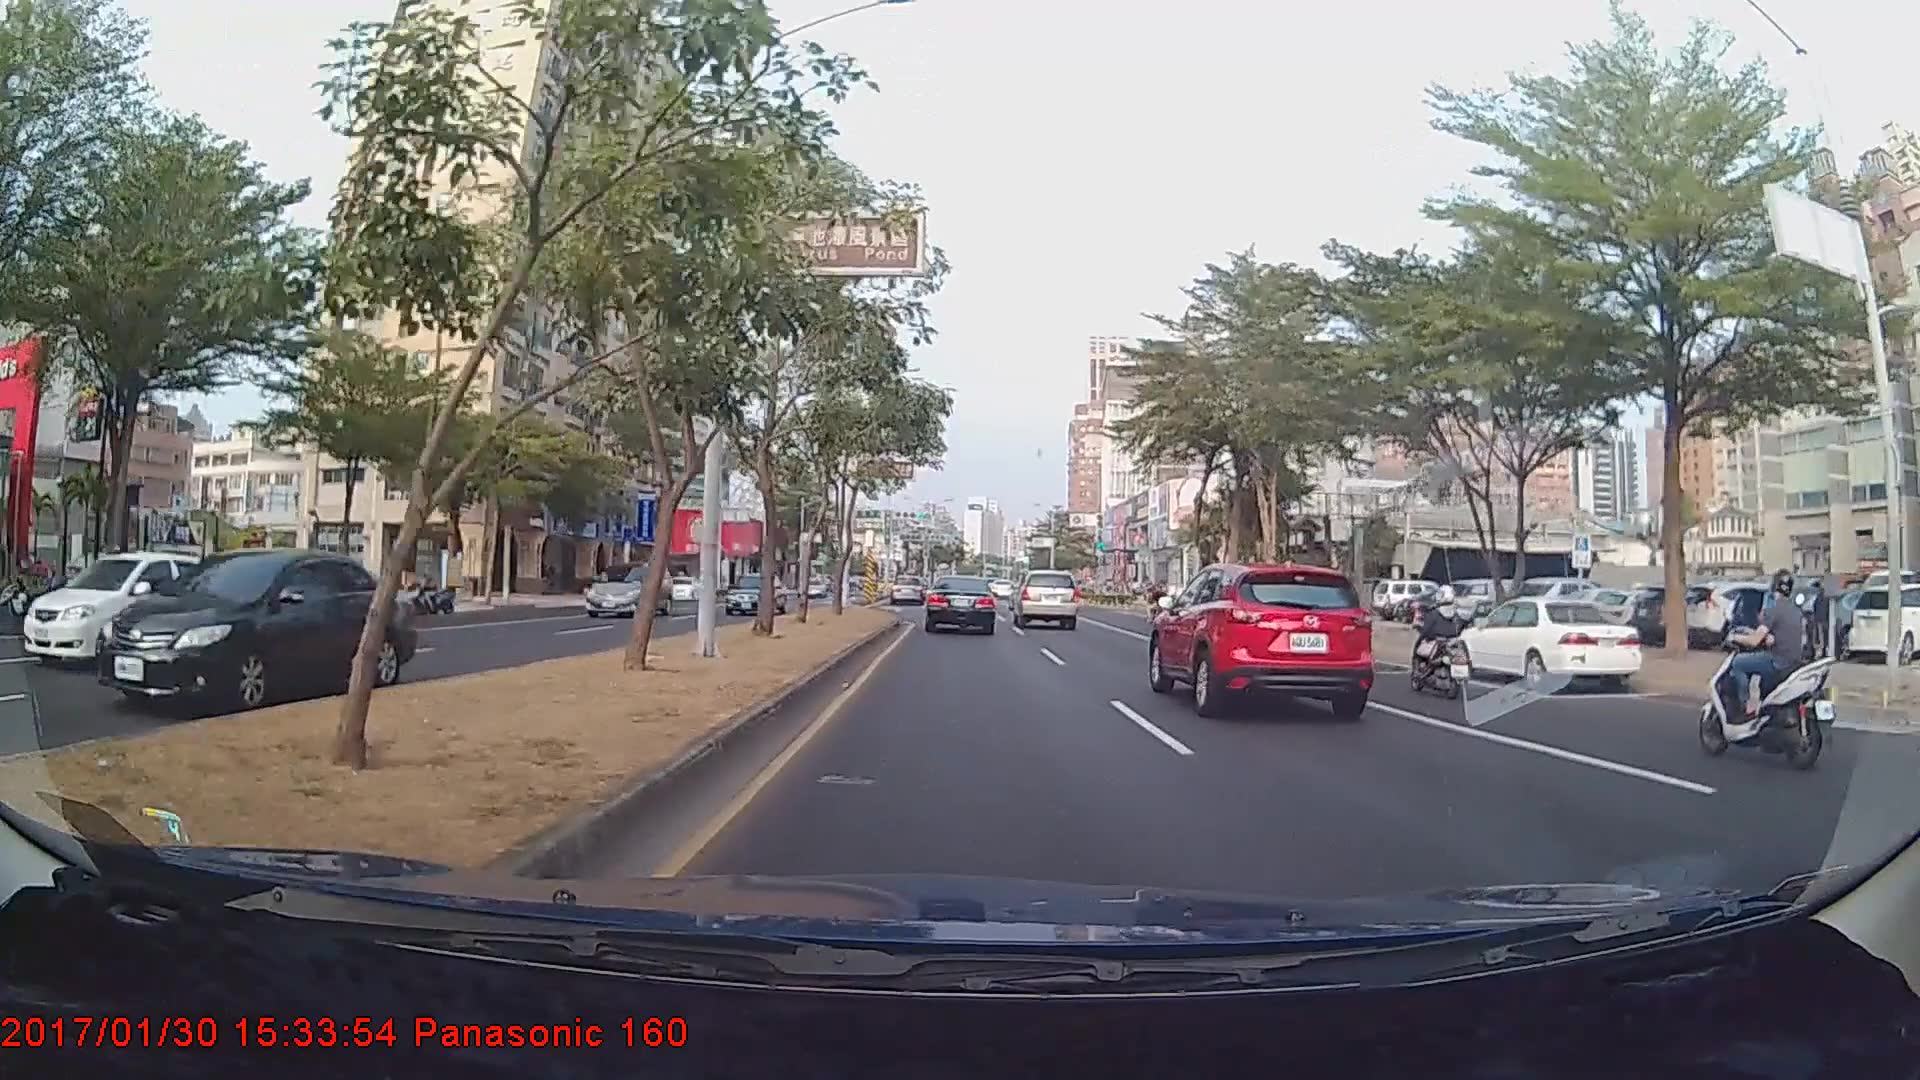pedestrian: (1811, 577, 1841, 670)
rider: (1700, 555, 1836, 773), (1397, 584, 1477, 705)
vehicle: (92, 547, 415, 712), (1146, 563, 1373, 724), (30, 551, 219, 661), (1448, 597, 1647, 693), (1841, 581, 1920, 669), (582, 560, 673, 619), (922, 572, 998, 636), (1011, 567, 1079, 630), (722, 570, 786, 616), (889, 574, 928, 606), (667, 574, 700, 602), (798, 576, 828, 599)
